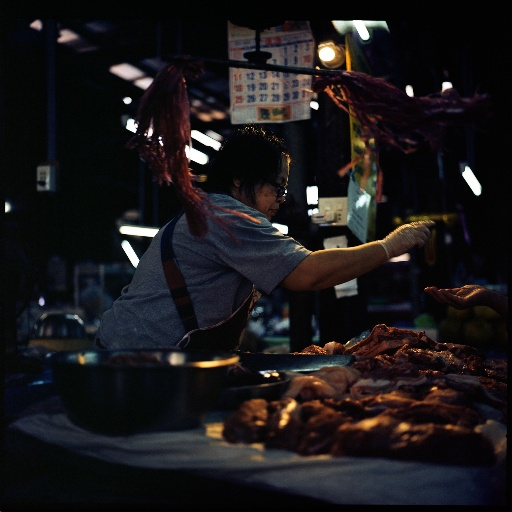hand: (372, 217, 449, 269)
